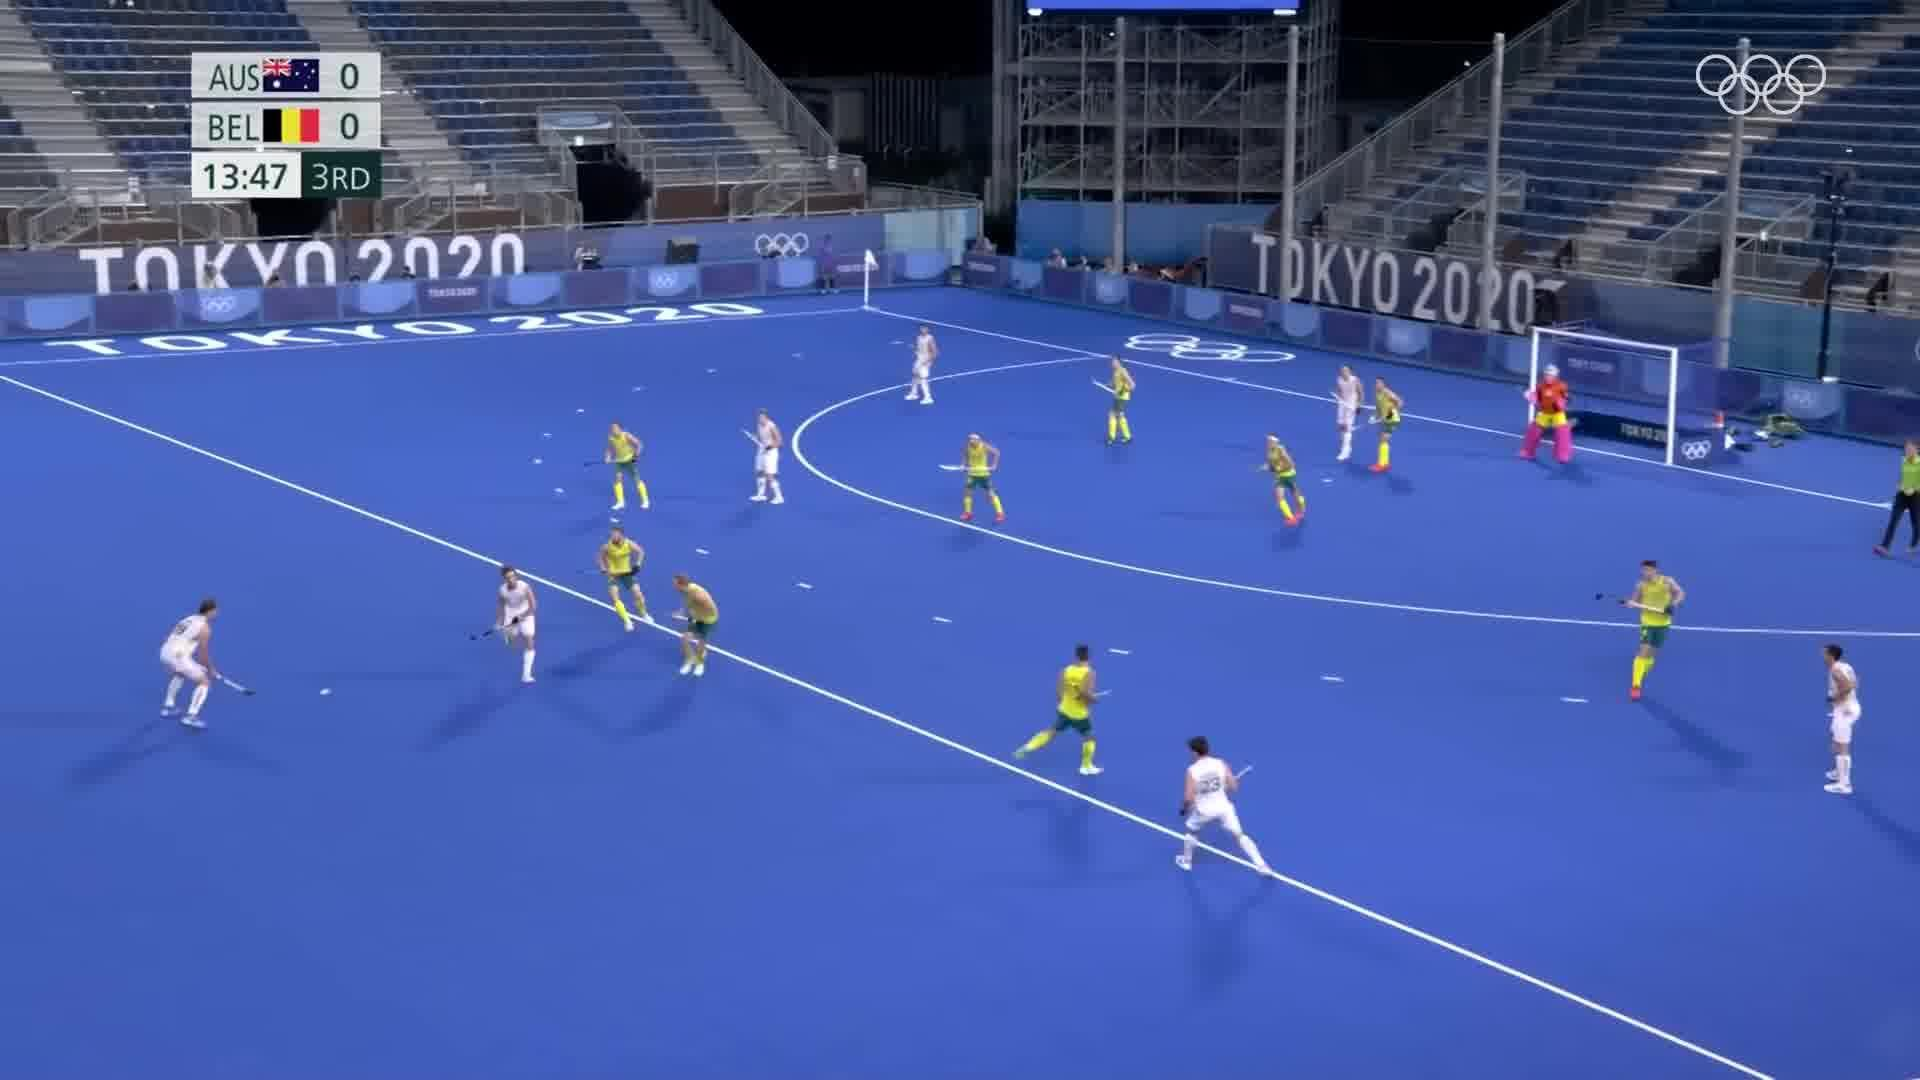ball: (316, 683, 334, 702)
